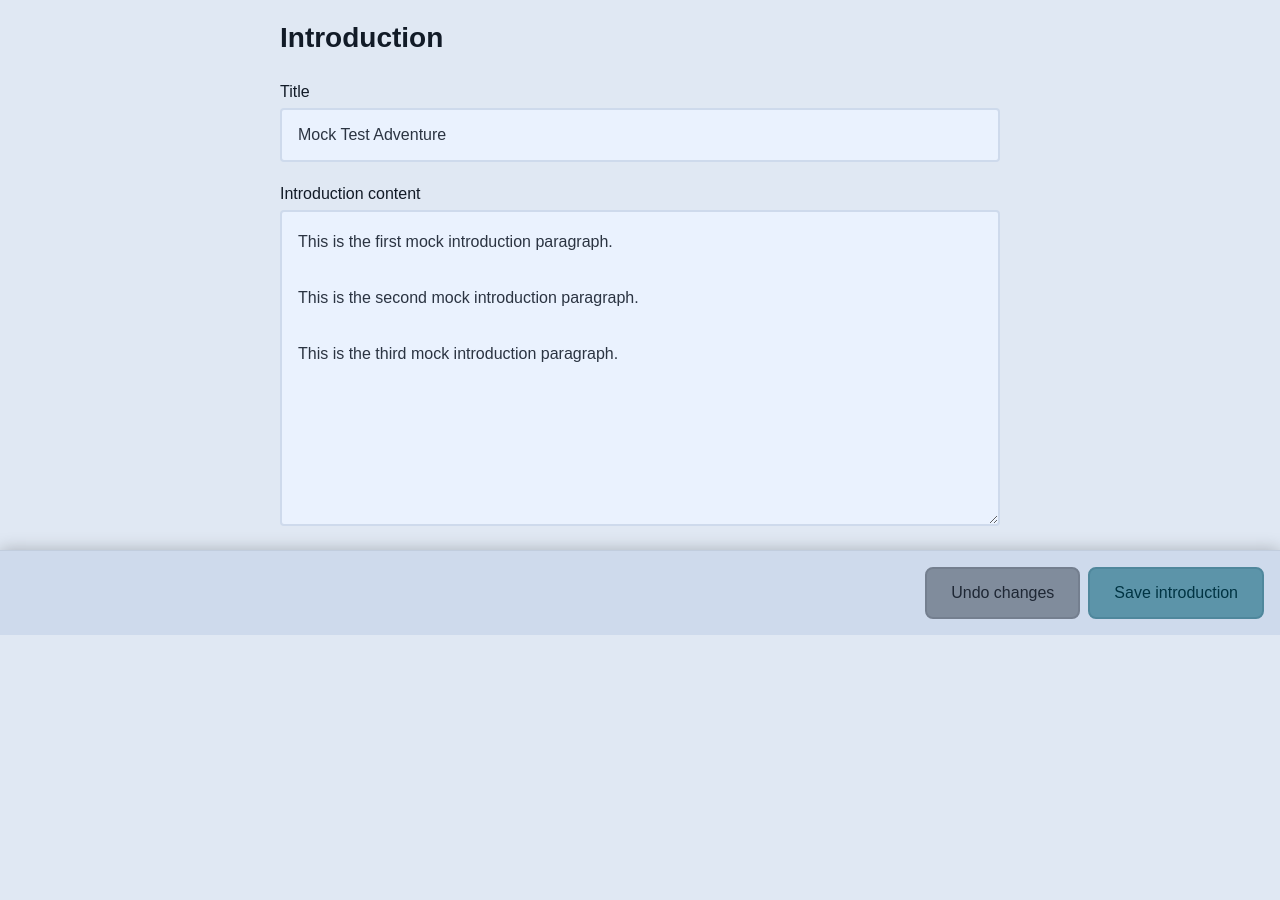
IntroductionEditView Component › Integration with useIntroductionEdit hook › resets form to original values when reset is clicked
Replace the text in the field with test id "introduction-title-input" with "Modified Title" at (640,135), box [280,108,1000,162]
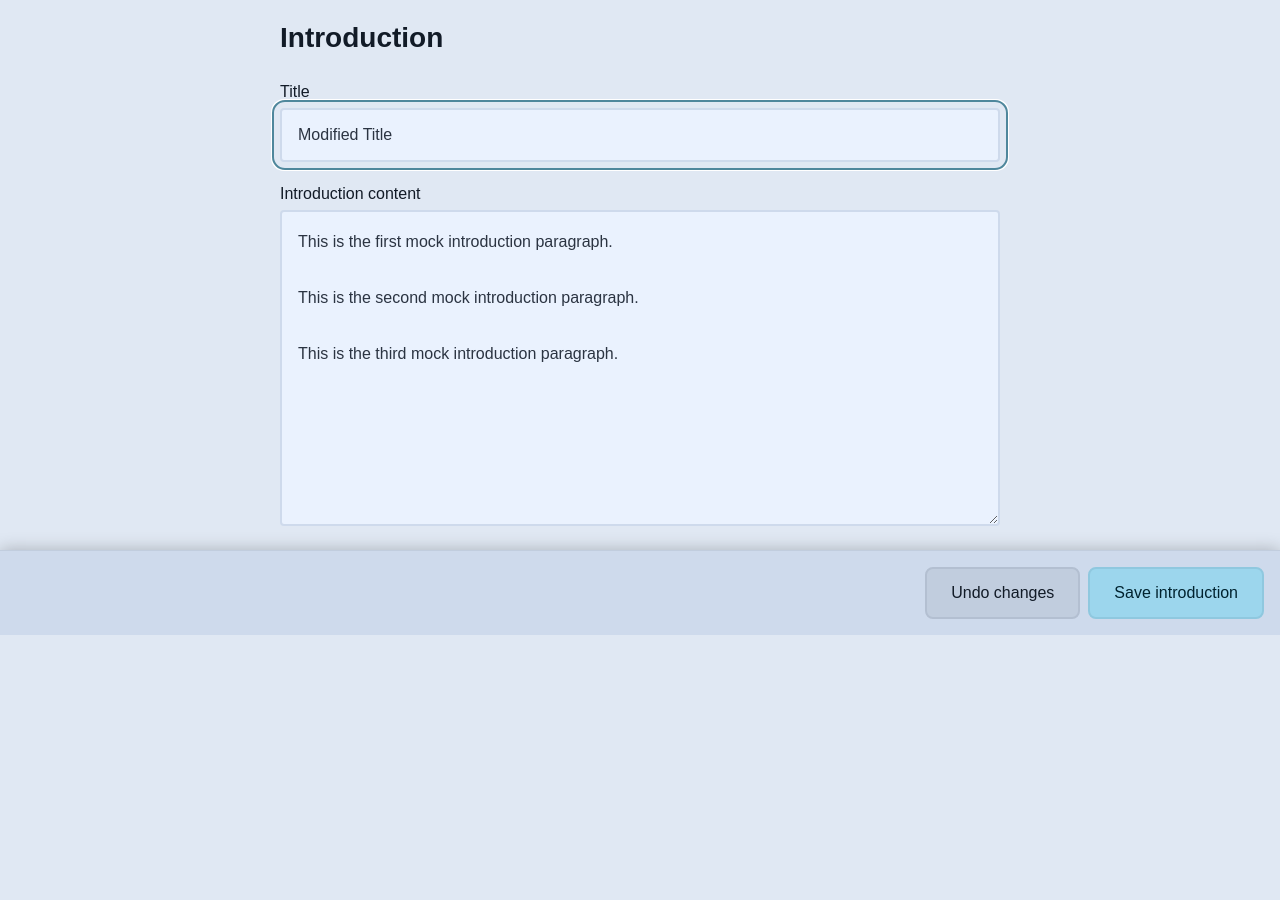
Replace the text in the text box with test id "introduction-text-input" with "Modified text" at (640,368), box [280,210,1000,526]
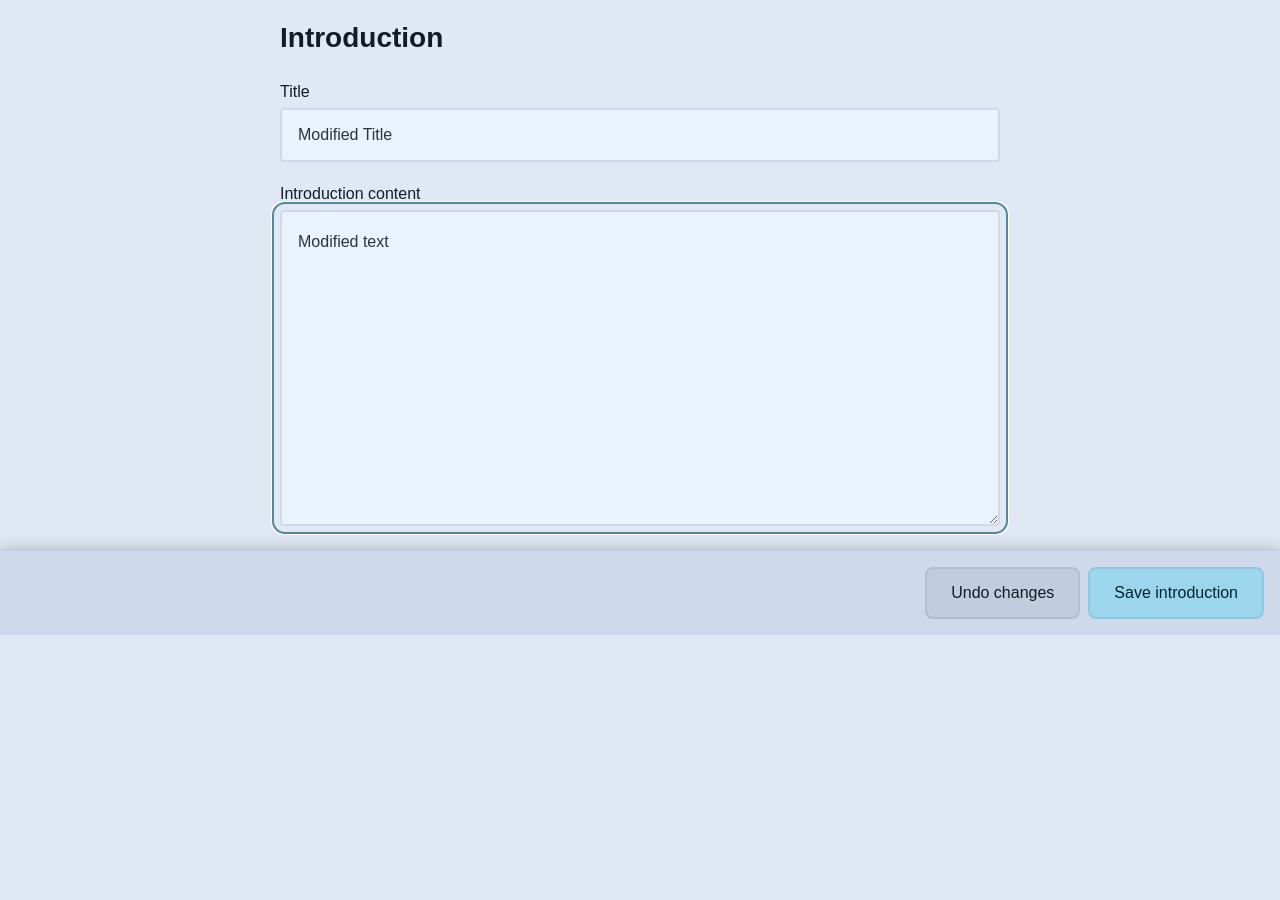
Click the button "Undo changes" at (1003,593), box [925,567,1080,619]
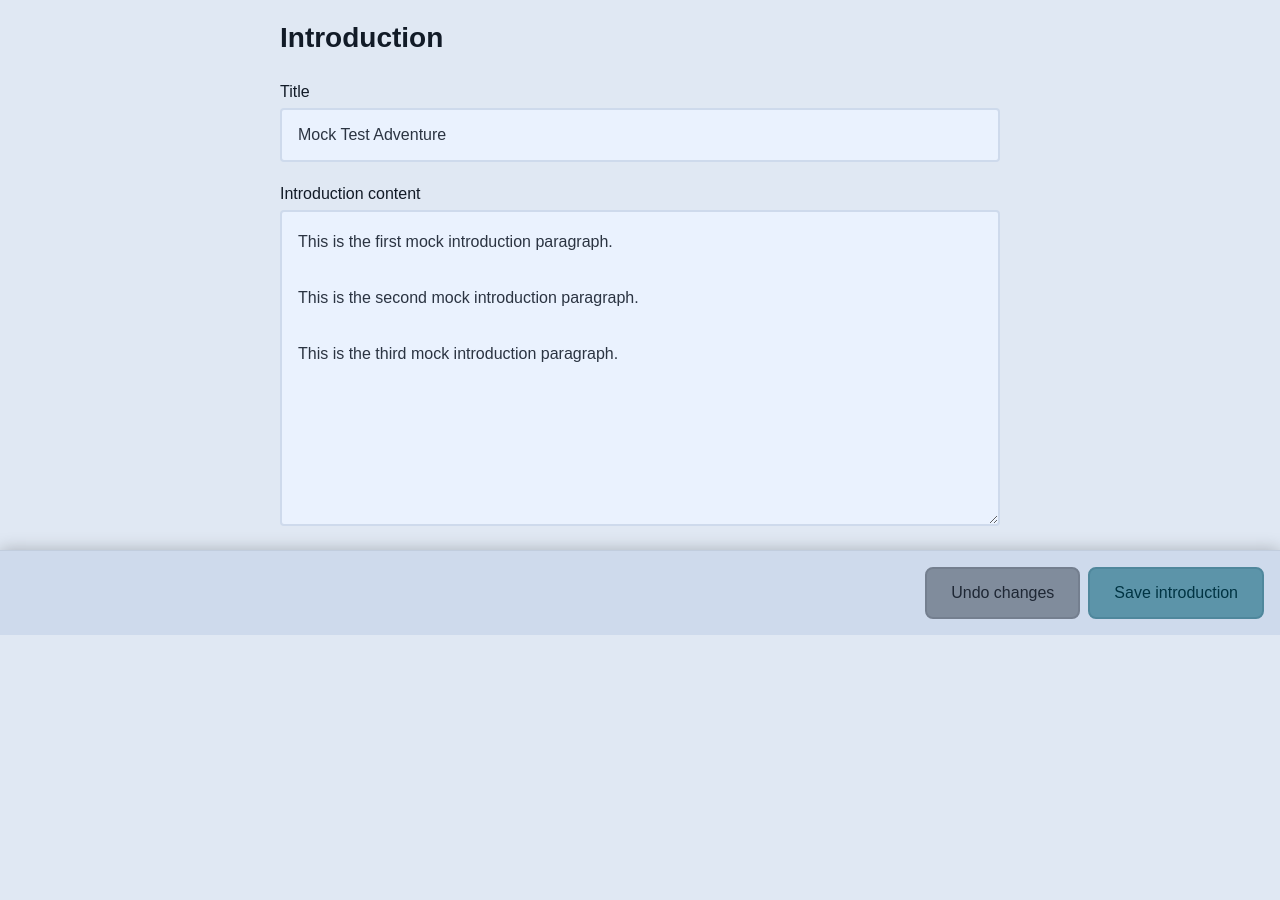
Expected: the field with test id "introduction-title-input" holds "Mock Test Adventure", [280,108,1000,162]
